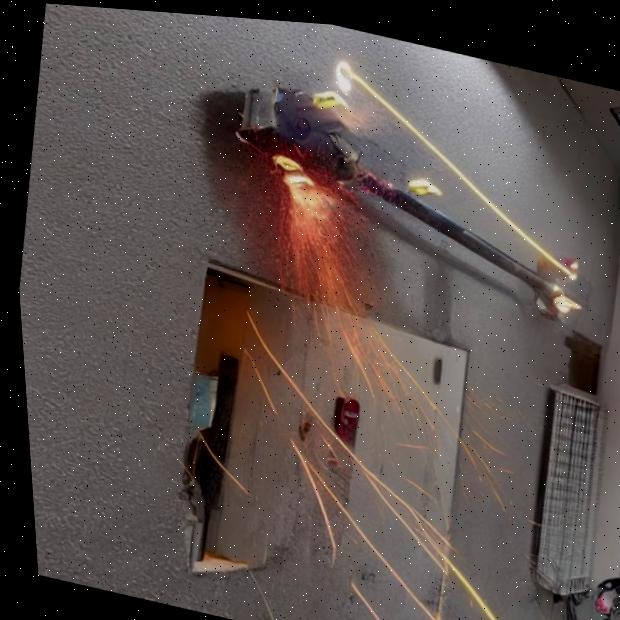fire: (201, 62, 446, 398)
